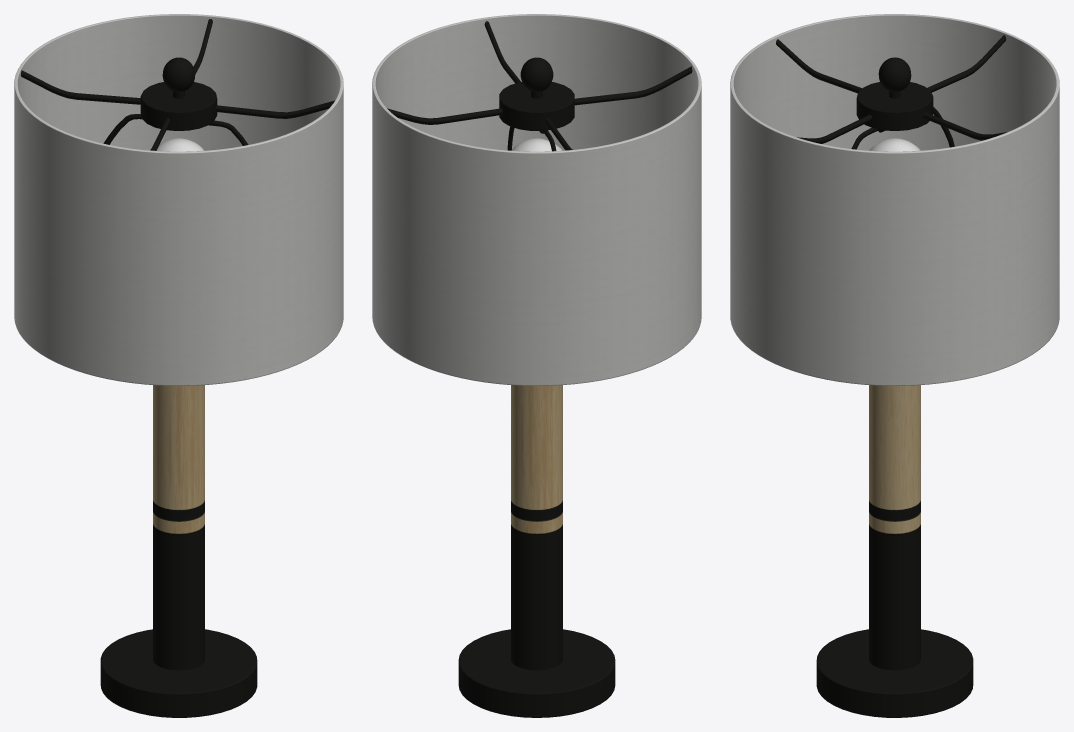
The model's file is B0825DNRXL.glb.
3 renders of one model, left to right at view 1: azimuth 30°, elevation 25°; view 2: azimuth 150°, elevation 25°; view 3: azimuth 270°, elevation 25°, orthographic.
Parts seen in each view (by area): view 1: RootNode; view 2: RootNode; view 3: RootNode.
Boxes of the visible parts, box(x1,y1,x2,y2) form: RootNode: box(14, 14, 343, 717); RootNode: box(372, 14, 701, 717); RootNode: box(730, 14, 1059, 717).
Bounding box in the file's own units: 0.3046 × 0.6401 × 0.3046.
1 material, 1 textured.
